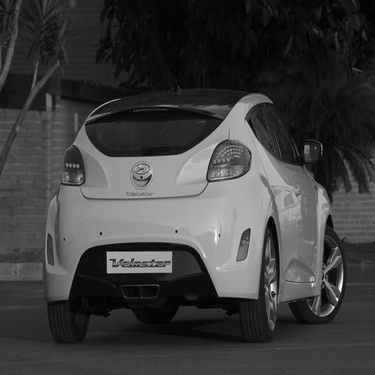car: (27, 76, 356, 331)
